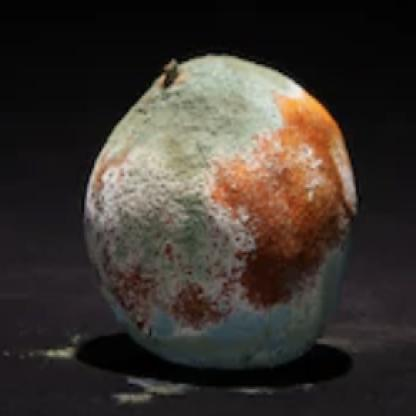rotten: (88, 55, 357, 368)
